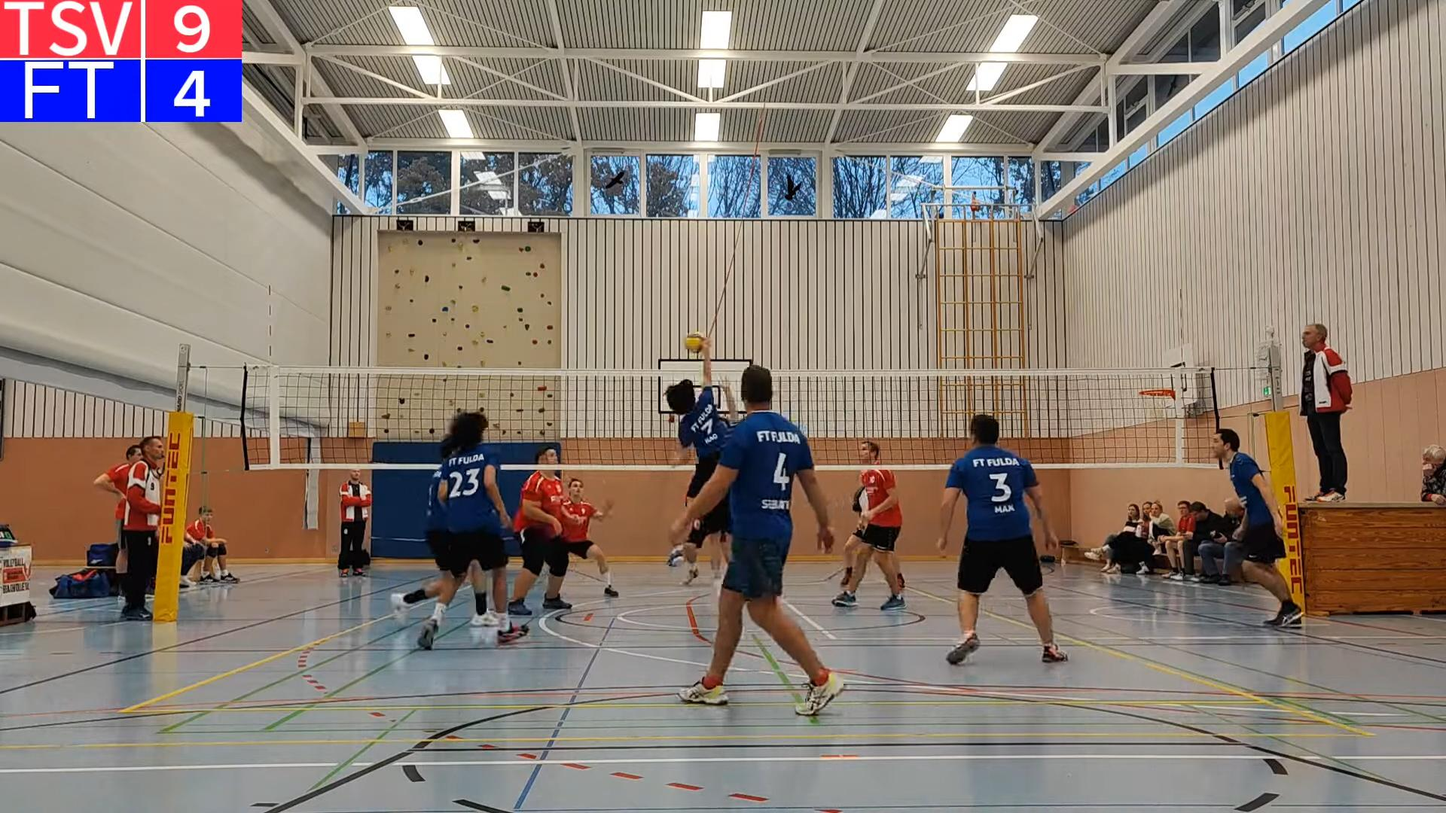Attack: (664, 345, 732, 543)
Player: (671, 366, 843, 715), (938, 414, 1067, 664), (418, 412, 525, 649), (1213, 429, 1302, 626), (832, 441, 905, 610), (508, 447, 570, 615), (562, 477, 618, 597), (424, 467, 448, 562)
ball: (686, 335, 711, 352)
